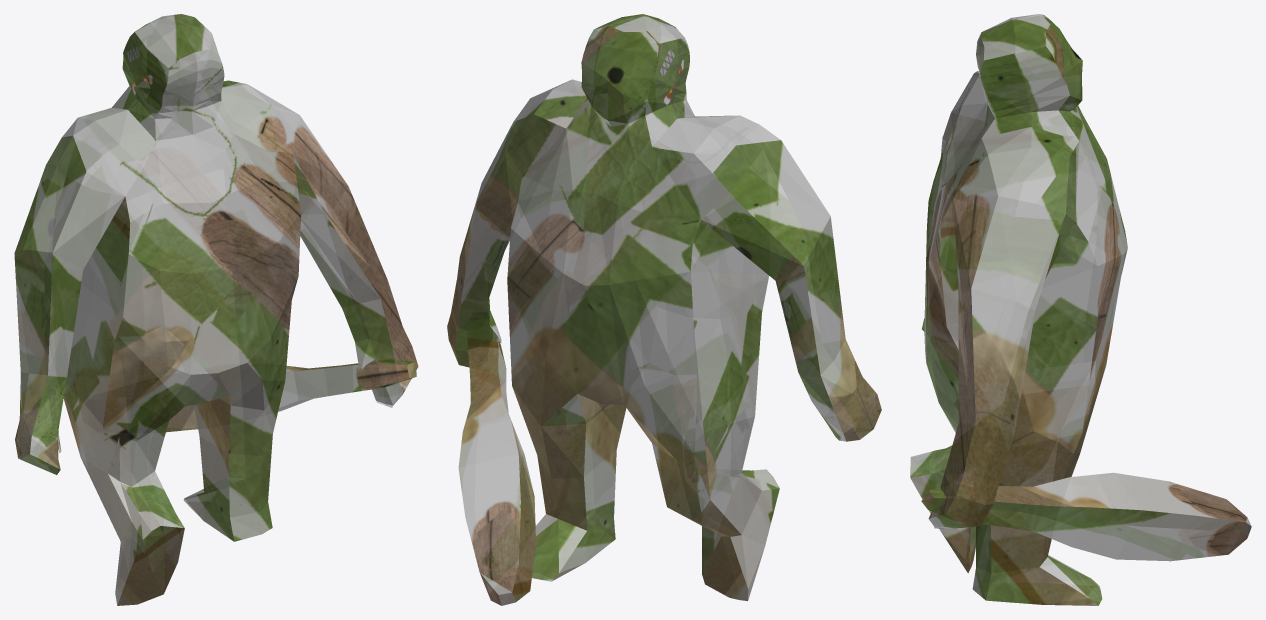
Rendered from Enemigo215.obj.
3 renders of one model, left to right at view 1: azimuth 30°, elevation 25°; view 2: azimuth 150°, elevation 25°; view 3: azimuth 270°, elevation 25°, orthographic. The views are drawn at different scales.
Visible parts, largest first — view 1: Cube; view 2: Cube; view 3: Cube.
Boxes of the visible parts, x1,y1,x2,y2 form: Cube: (14,14,418,605); Cube: (447,14,881,605); Cube: (910,14,1251,605).
Bounding box in the file's own units: 2.15 × 2.85 × 1.53.
